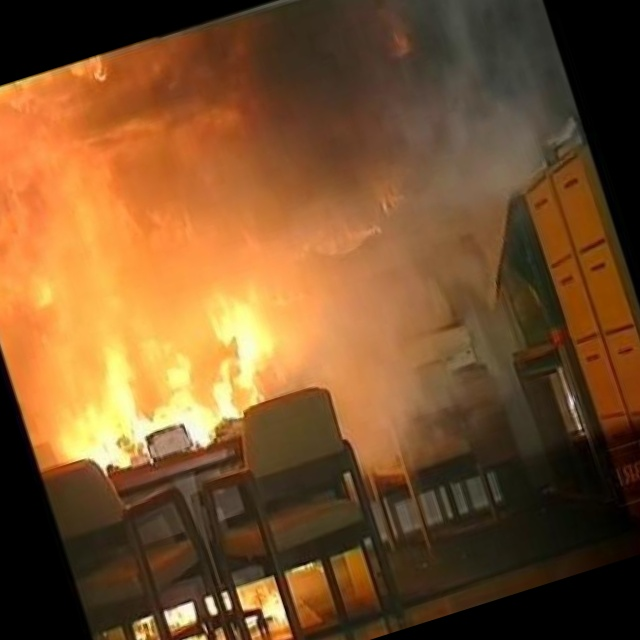fire: (0, 159, 311, 485)
smoke: (284, 0, 598, 256)
